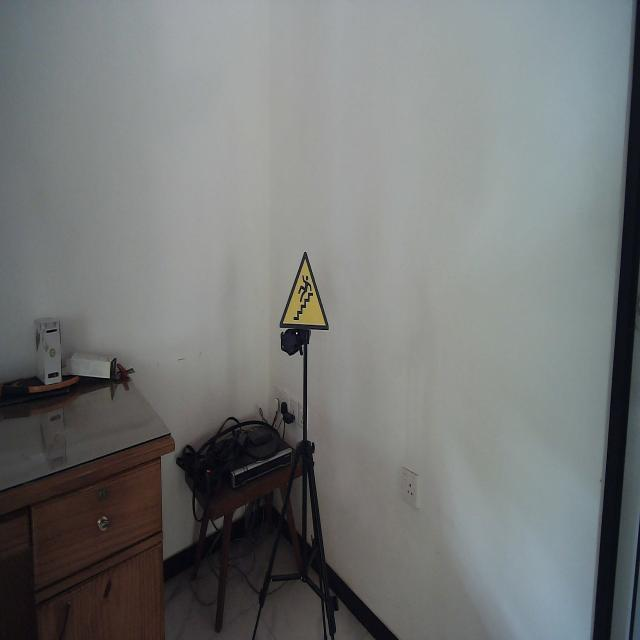stairs: (278, 250, 330, 332)
